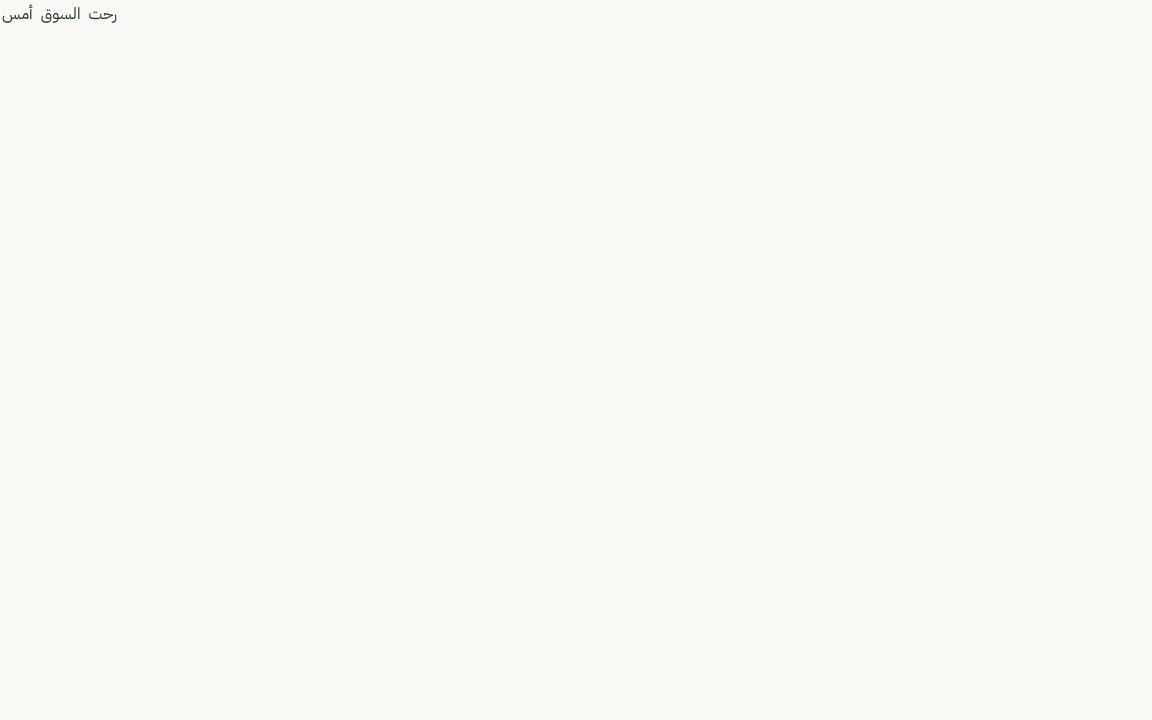
it: looking a word up › marks a word that has been looked up
The image size is (1152, 720).
Click the button with aria-label "ابحث عن «السوق»" at (61, 14), box left=39, top=0, right=82, bottom=27
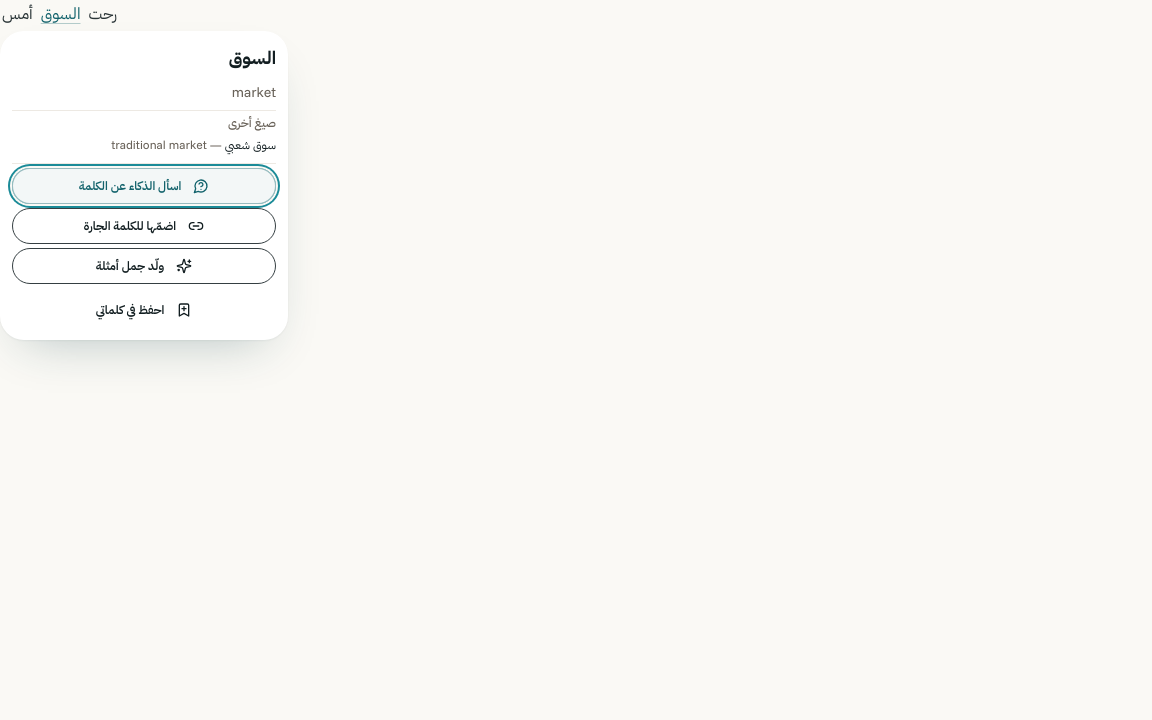
Check: the button with aria-label "ابحث عن «السوق»" has class "underline", box left=39, top=0, right=82, bottom=27
